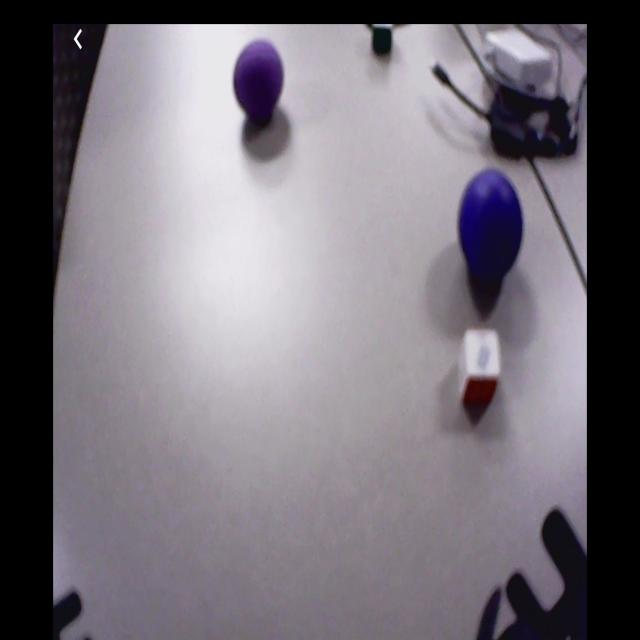ball: (458, 169, 525, 272), (234, 40, 284, 115)
